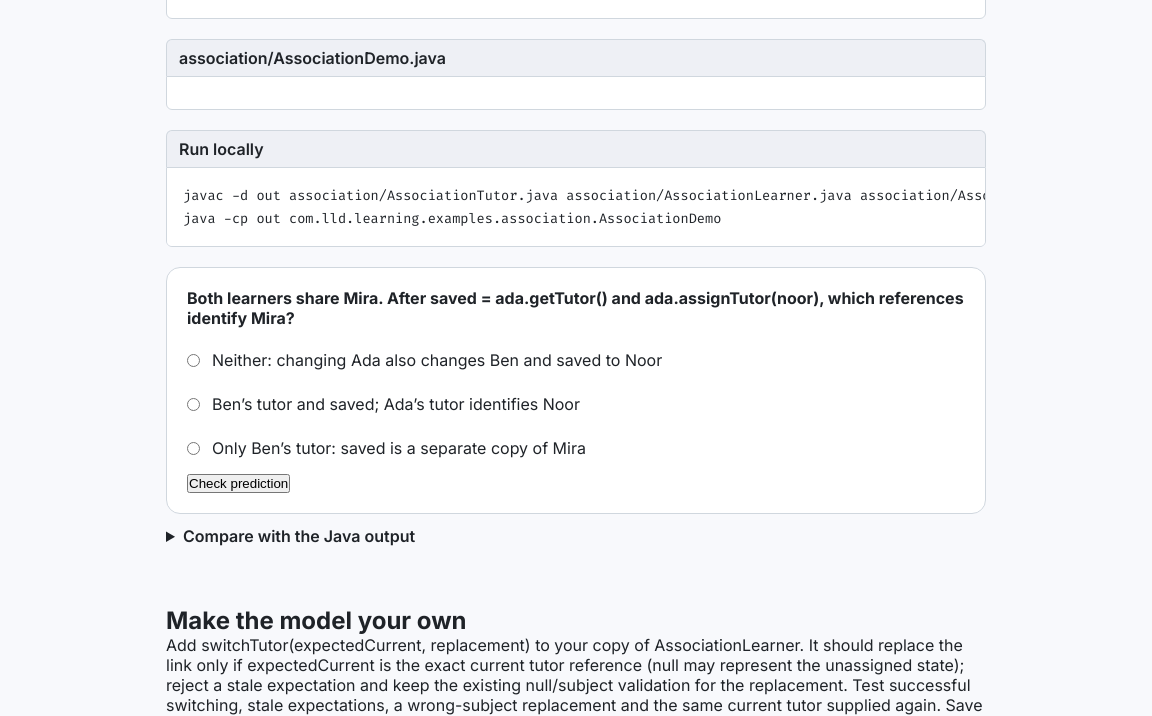
Association lesson › provides corrective feedback for copied-object and shared-field misconceptions
The image size is (1152, 716).
(page scrolled)
Click the radio button labelled "Neither: changing Ada also changes Ben and saved to Noor": coordinates (194, 361) top-left (187, 354), bottom-right (200, 367)
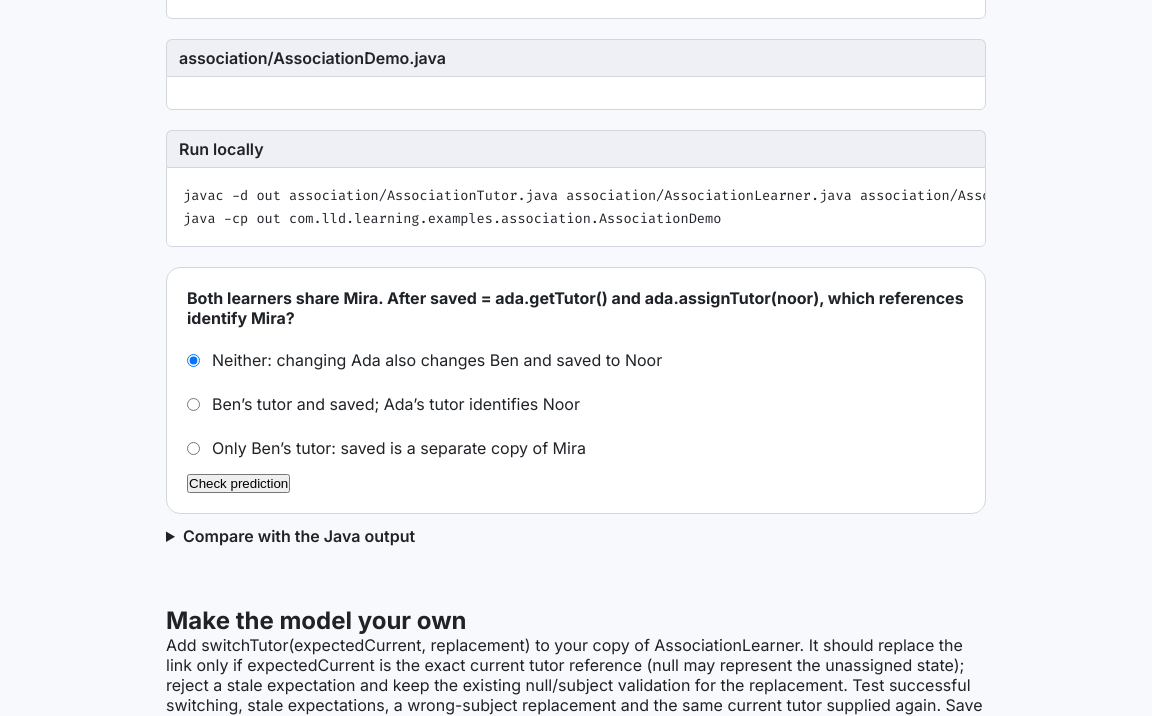
Click the button "Check prediction": coordinates (239, 484) top-left (187, 474), bottom-right (290, 493)
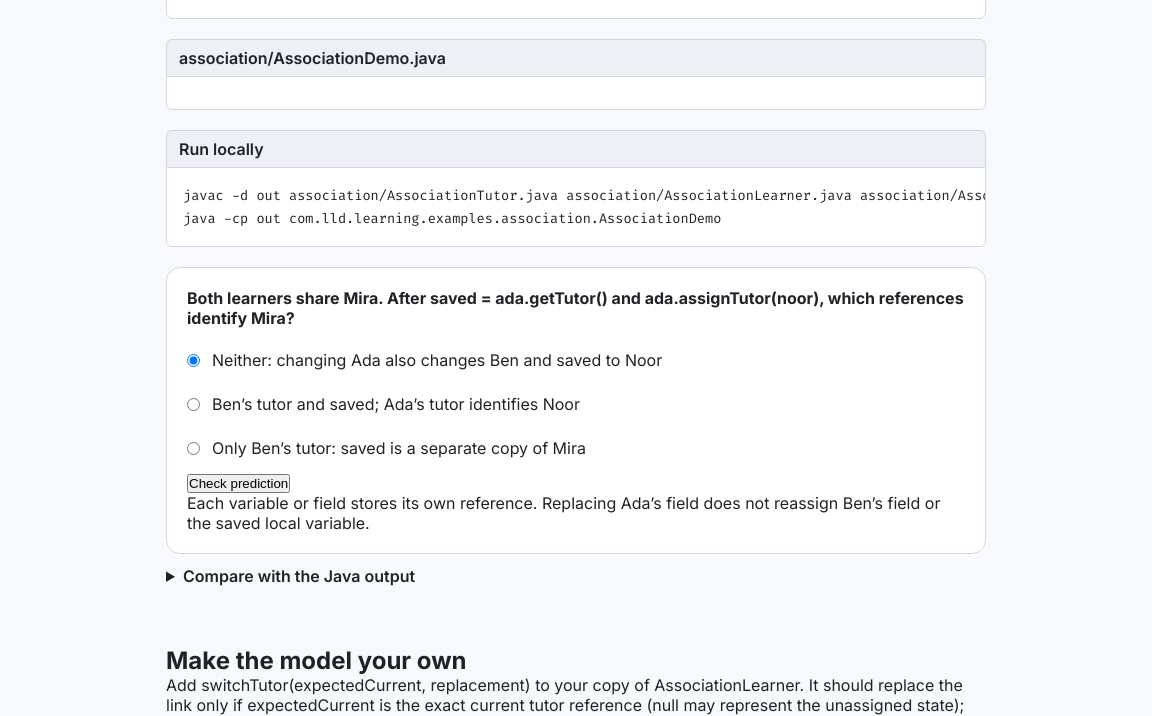
Expected: the text "Each variable or field stores its own reference. Replacing Ada’s field does not reassign Ben’s field or the saved local " is shown, top-left (187, 493), bottom-right (940, 533)
Click the radio button labelled "Ben’s tutor and saved; Ada’s tutor identifies Noor": coordinates (194, 405) top-left (187, 398), bottom-right (200, 411)
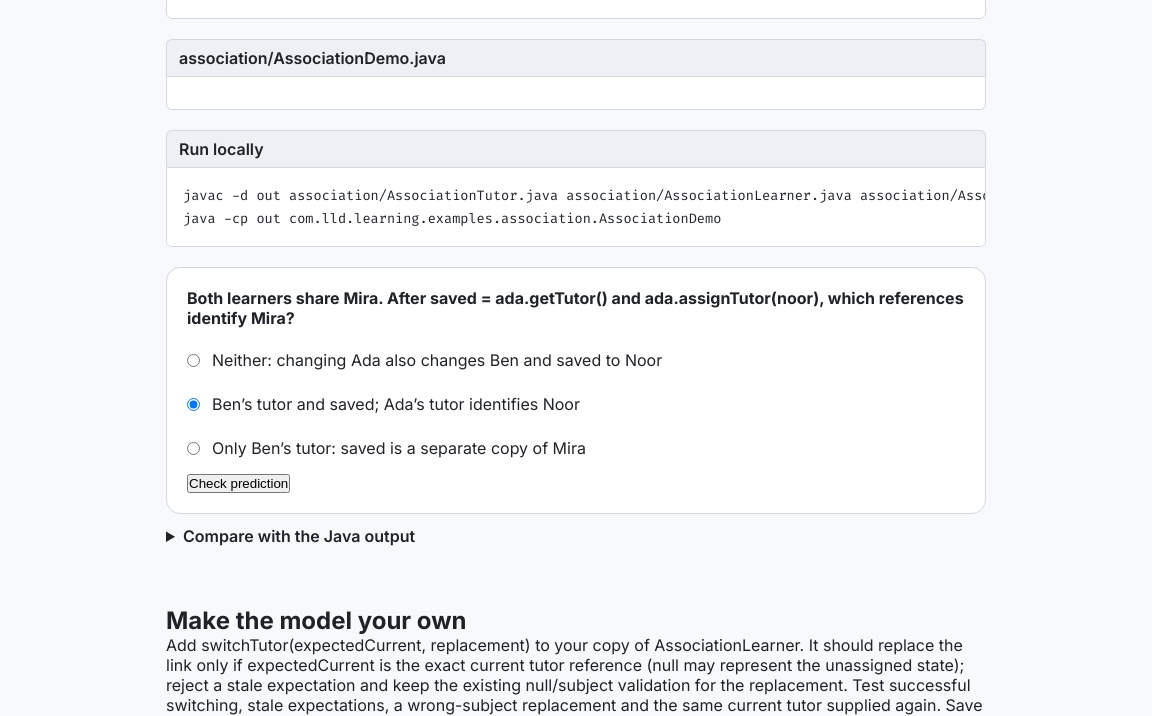
Click the button "Check prediction": coordinates (239, 484) top-left (187, 474), bottom-right (290, 493)
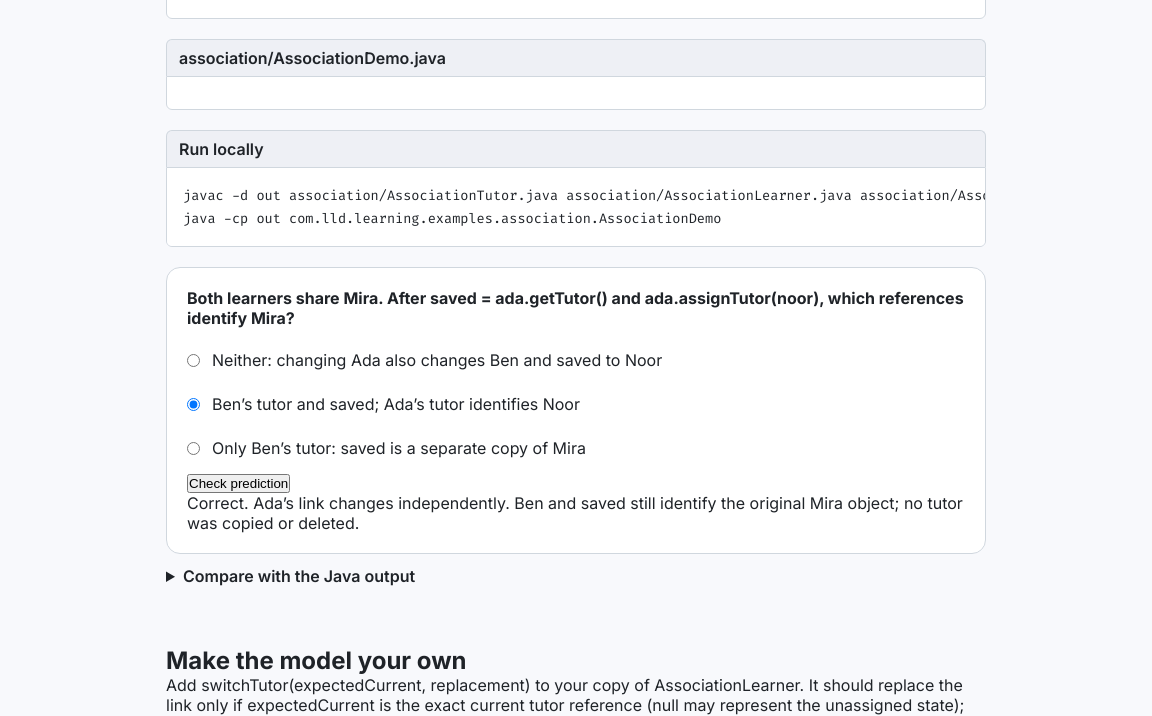
Expected: the text "Correct. Ada’s link changes independently. Ben and saved still identify the original Mira object; no tutor was copied or" is shown, top-left (187, 493), bottom-right (963, 533)
Click the radio button labelled "Only Ben’s tutor: saved is a separate copy of Mira": coordinates (194, 449) top-left (187, 442), bottom-right (200, 455)
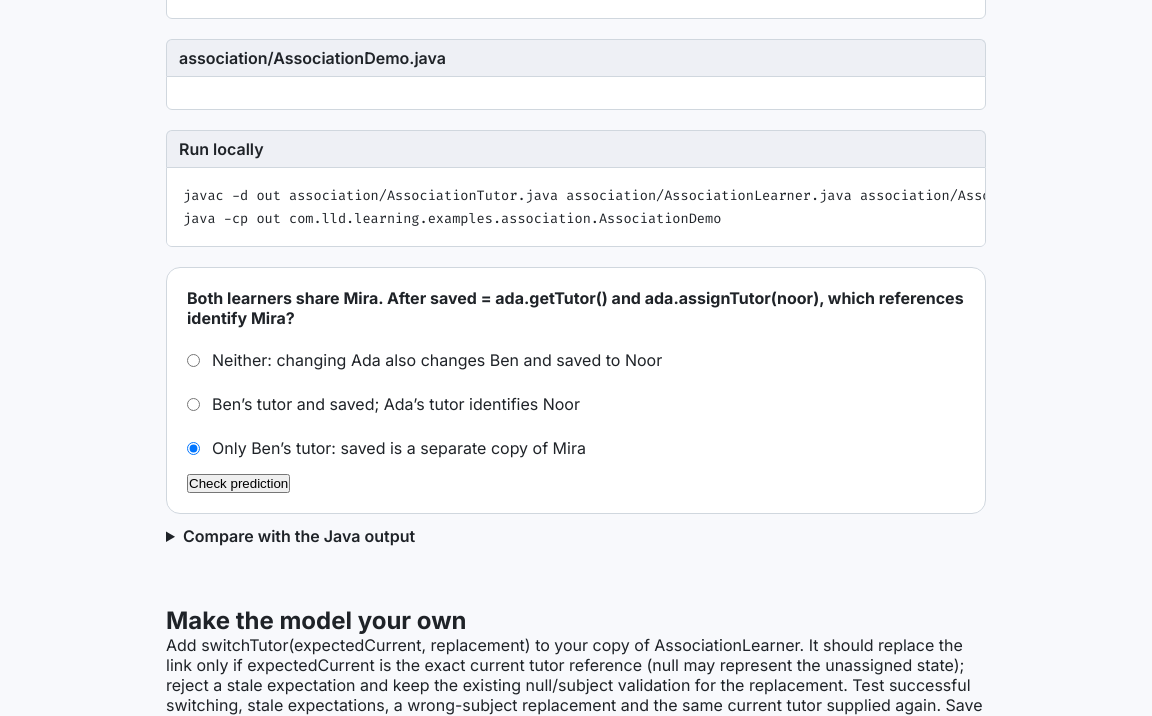
Click the button "Check prediction": coordinates (239, 484) top-left (187, 474), bottom-right (290, 493)
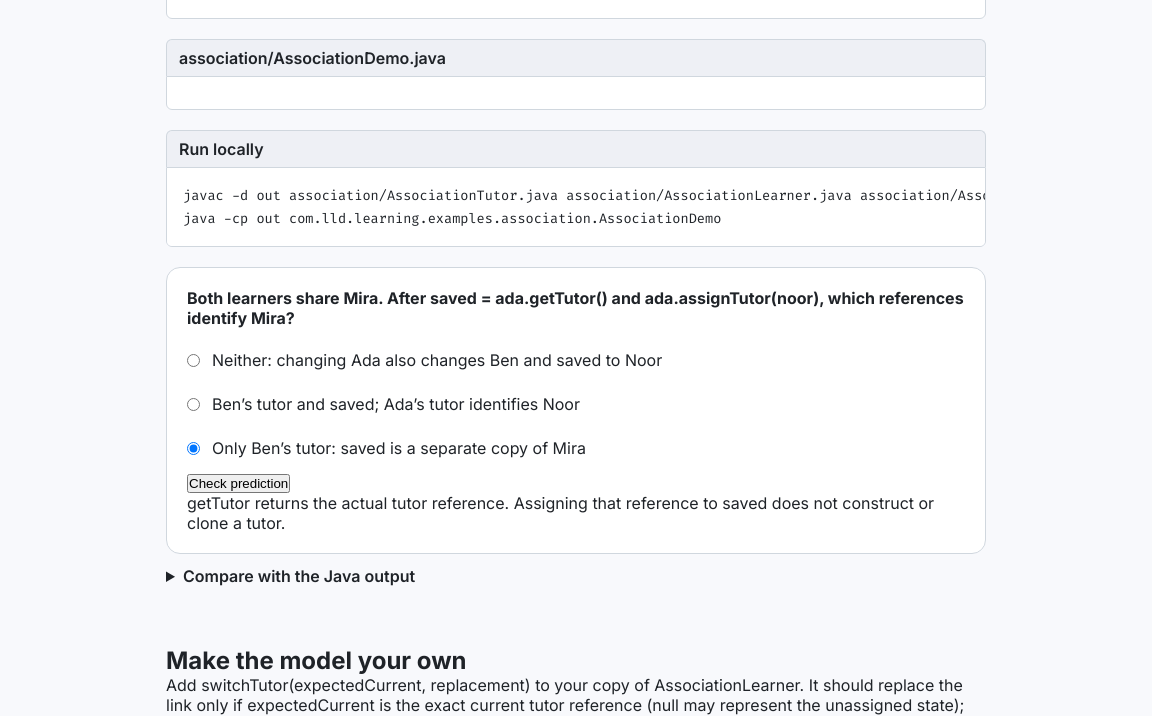
Expected: the text "getTutor returns the actual tutor reference. Assigning that reference to saved does not construct or clone a tutor." is shown, top-left (187, 493), bottom-right (934, 533)
